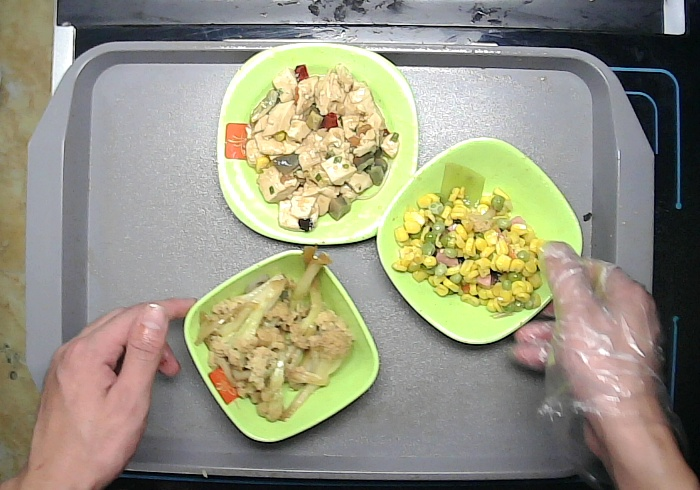SHKJ-Lv_Se_Cai_Die: (376, 138, 585, 346)
SHKJ-Lv_Se_Si_Fang_Cai_Die: (214, 40, 419, 242)
SHKJ-Lv_Se_Xiao_Fang_Die: (181, 250, 381, 442)
